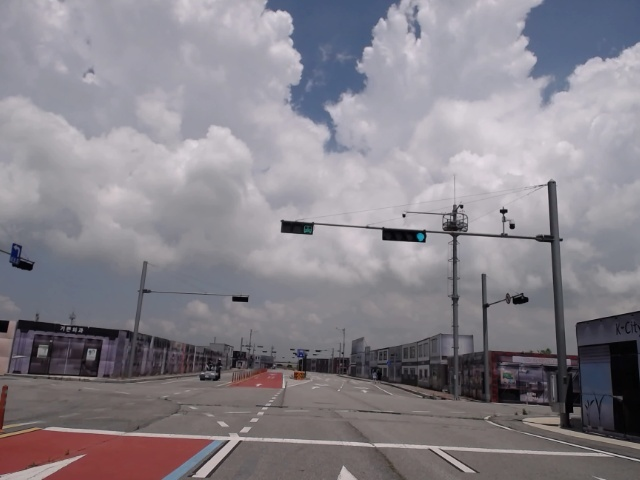straight_green_4: (382, 230, 427, 242)
